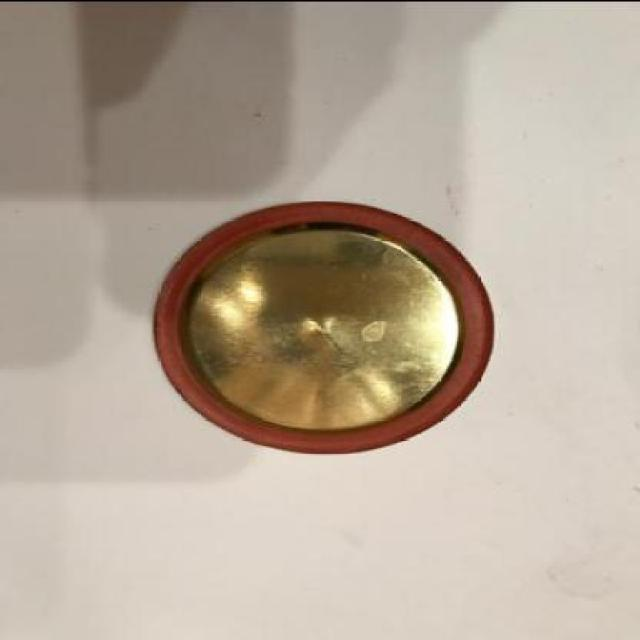METAL: (152, 199, 496, 455)
